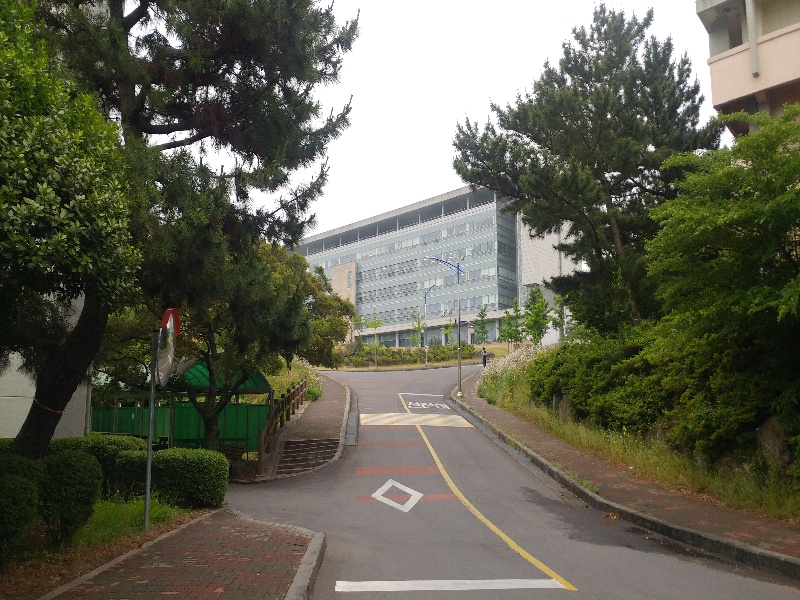Engineering College Building 4: (294, 183, 581, 348), (351, 212, 518, 336)
